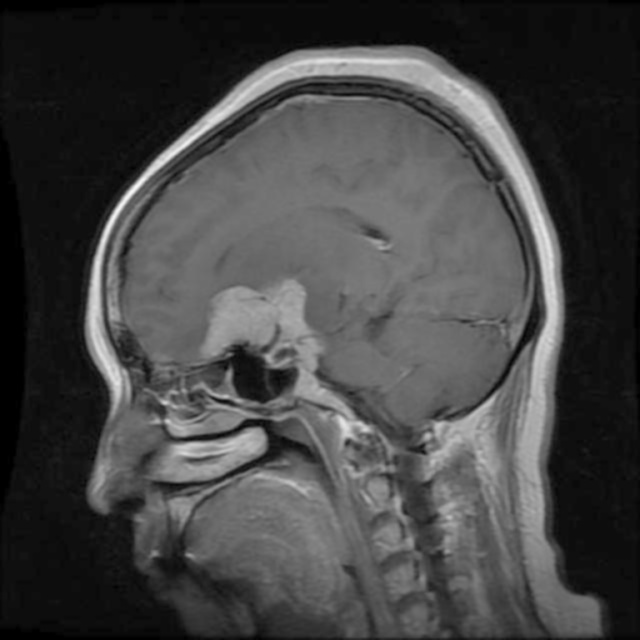meningioma tumor: (185, 268, 326, 358)
